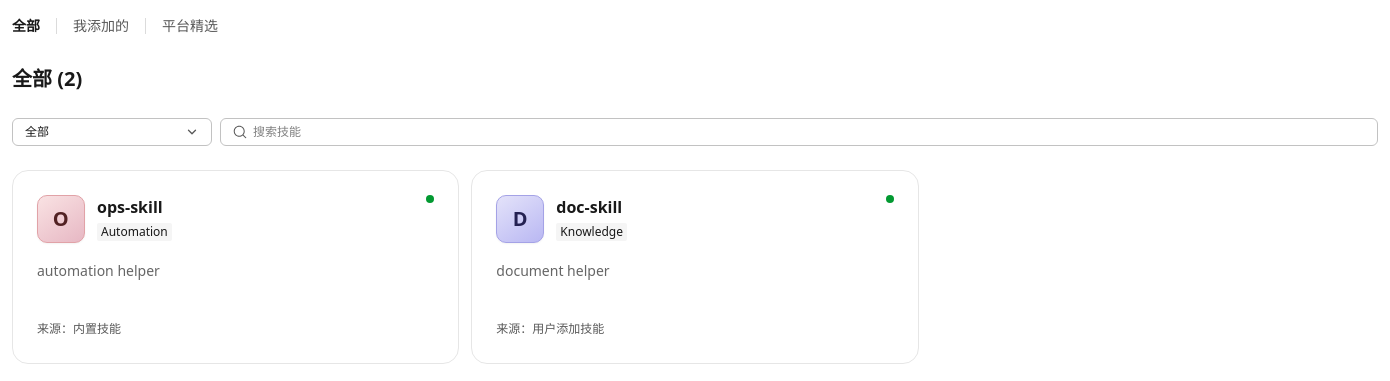
Test: business theme hub shell › skill source tabs and category dropdown › displays correct labels for category options in dropdown menu
Click the button "全部" below "全部 (2)" at (112, 132), box [12,118,212,146]
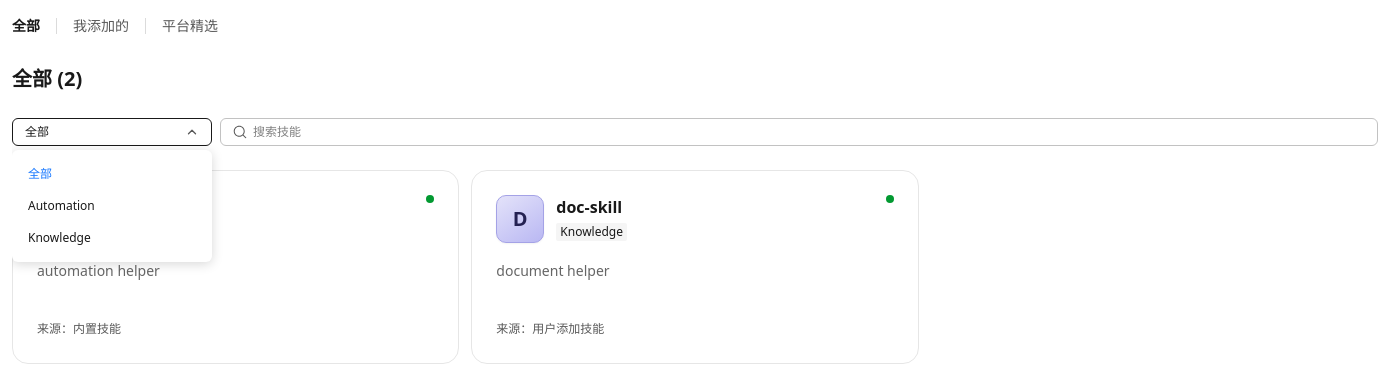
Expected: the list is shown, [12,150,212,262]
